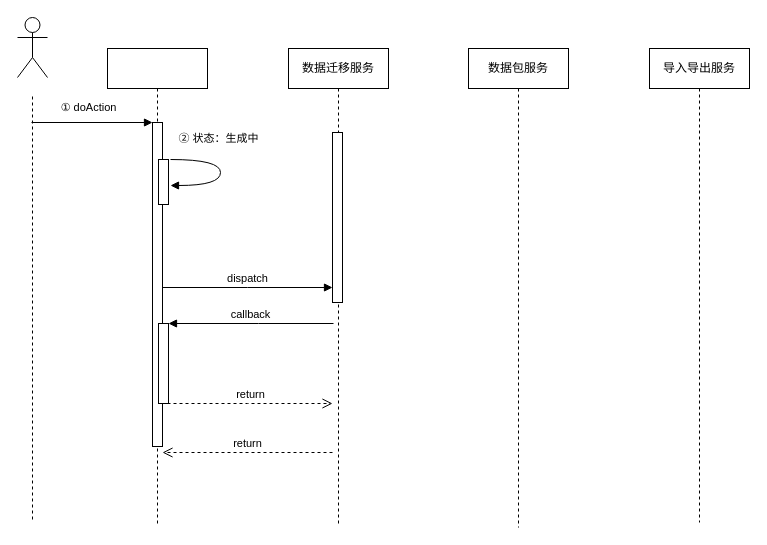
Some shapes in this 767 by 545 pixel diagram are drawn without their labels. The shapes that lost their labels are listed below. From the top down, each one's centre as x and y in pixels, then its label:
At point (32, 47): "Actor".
At point (157, 286): "客户端".
